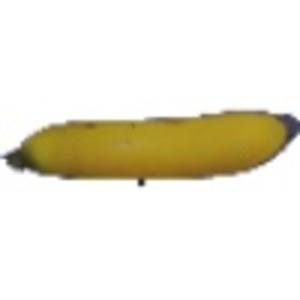banana: (2, 107, 297, 181)
